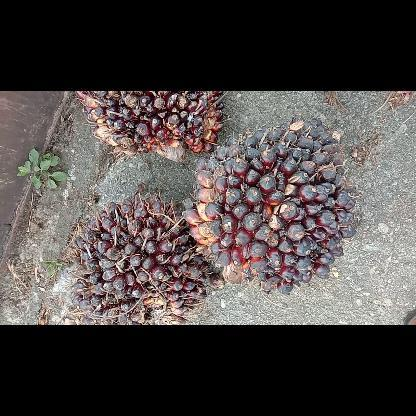TBS mentah: (182, 113, 356, 292), (72, 192, 212, 324), (76, 90, 220, 162)
